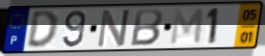1: (204, 6, 221, 46)
9: (62, 9, 88, 49)
B: (128, 8, 165, 47)
D: (25, 9, 60, 50)
M: (168, 7, 206, 47)
N: (95, 7, 132, 49)
